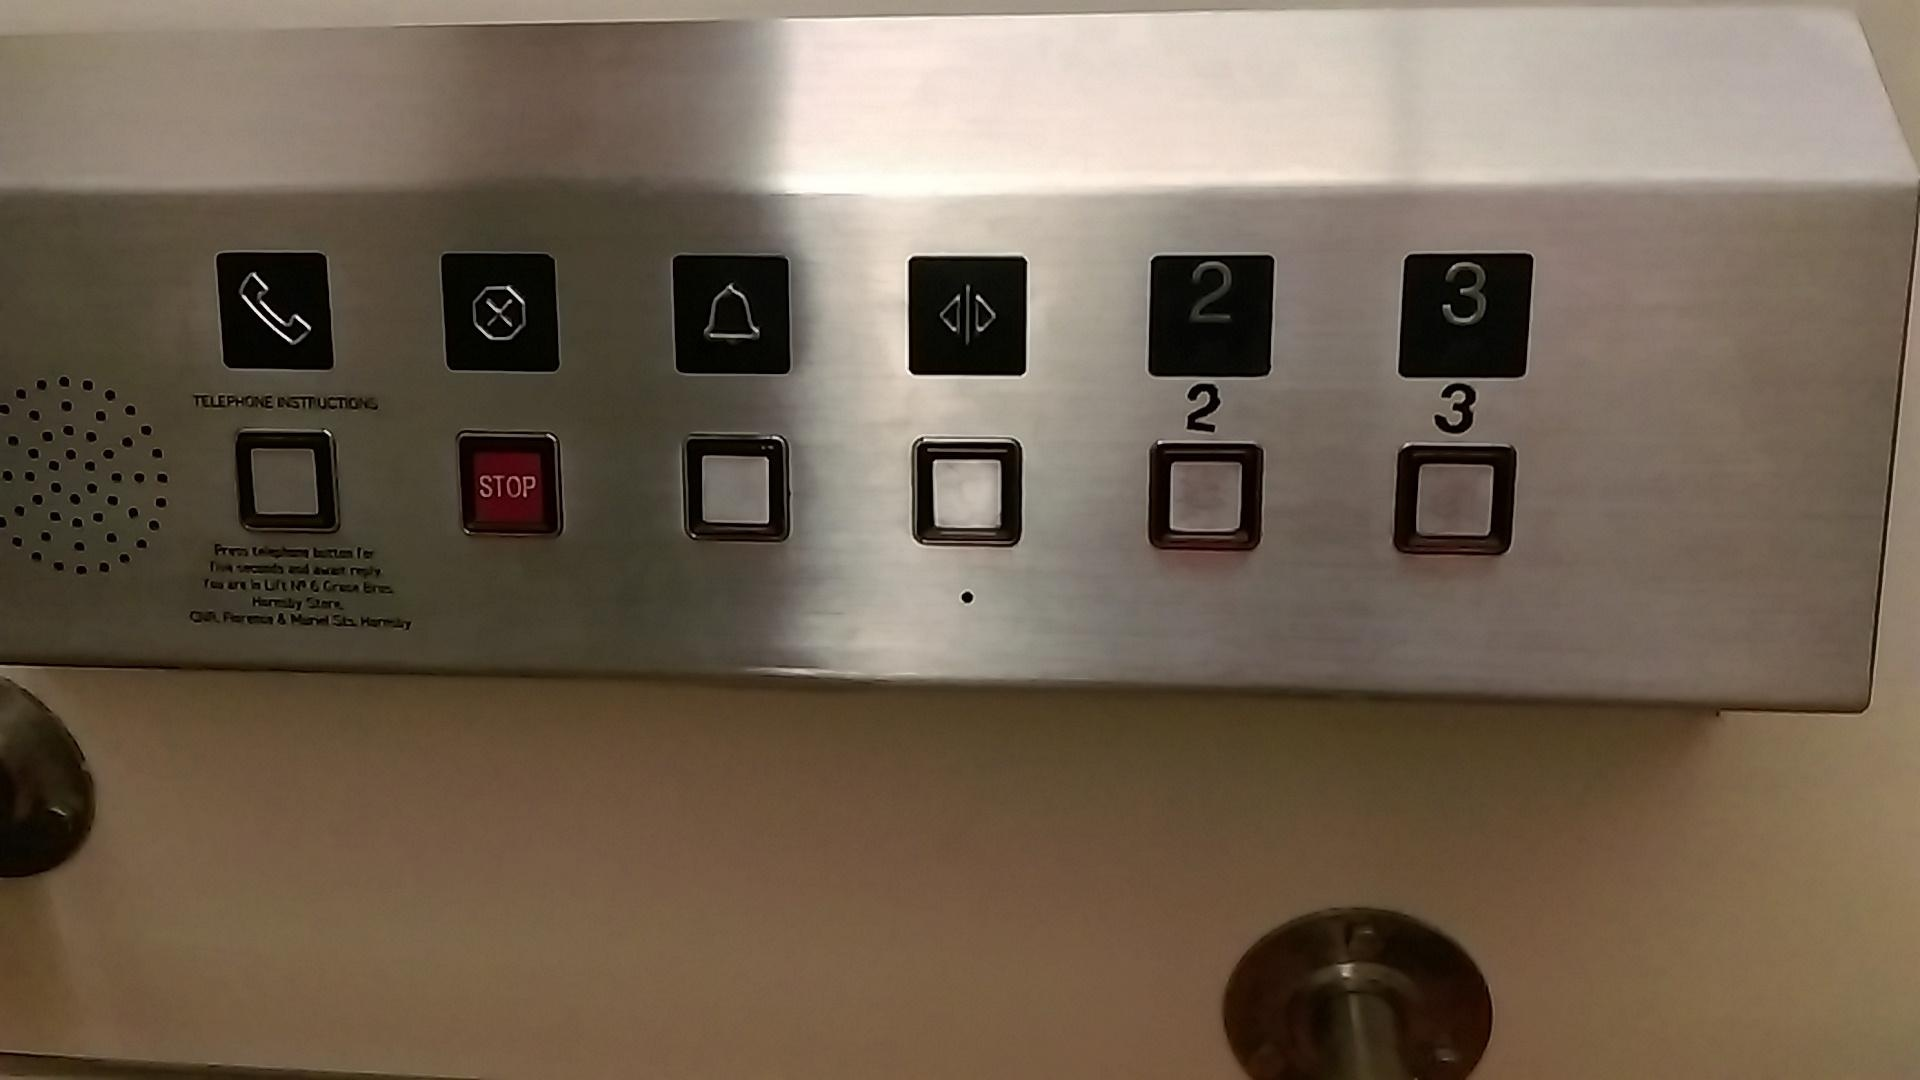2: (1143, 251, 1279, 378)
3: (1396, 244, 1535, 386)
alarm: (662, 249, 798, 378)
call: (206, 243, 342, 372)
empty: (225, 417, 347, 541), (675, 422, 796, 546), (906, 429, 1027, 553), (1146, 431, 1267, 555), (1396, 434, 1516, 558)
open: (899, 252, 1035, 381)
stop: (431, 247, 567, 375)
text_stop: (447, 423, 568, 547)
